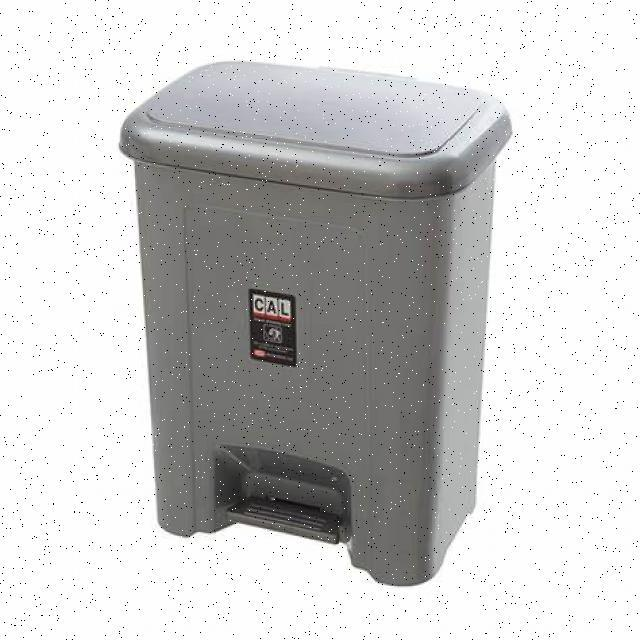garbage container: (108, 49, 523, 625)
